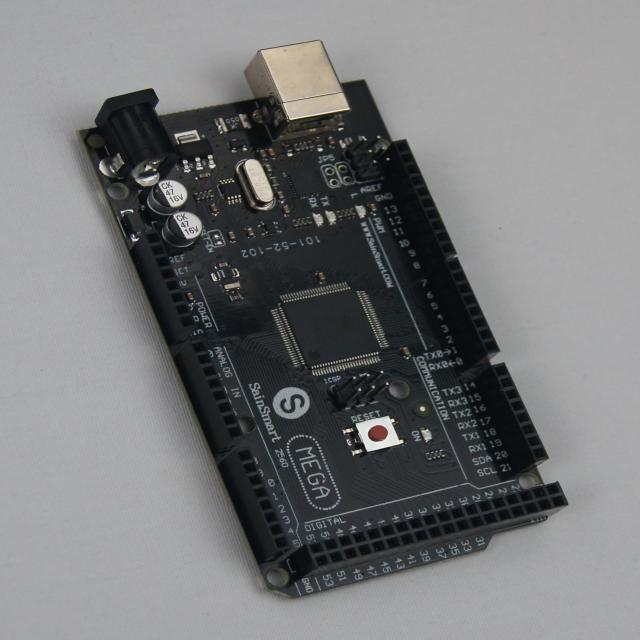Arduino Mega 2560 -Black-: (82, 42, 567, 596)
